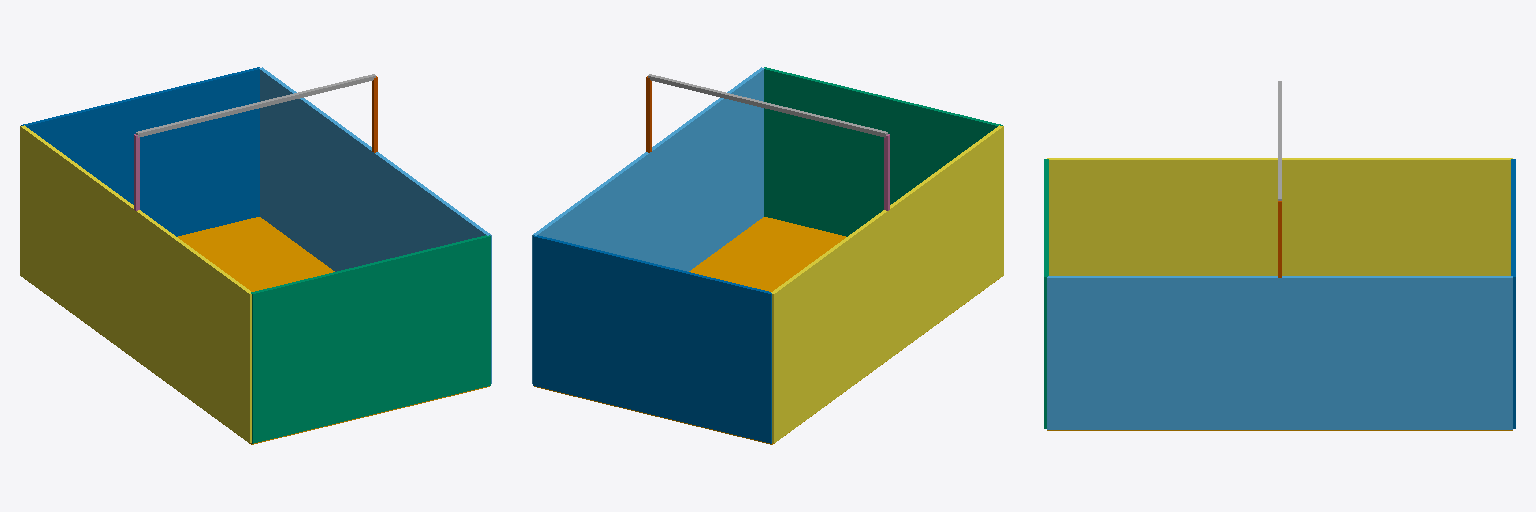
robot.urdf — basket:
<?xml version="1.0"?>
<robot name="basket">
    <link name="bottom_link">
        <collision>
            <geometry>
                <box size="0.30 0.50 0.005"/>
            </geometry>
        </collision>
        <visual>
            <geometry>
                <box size="0.30 0.50 0.005"/>
            </geometry>
        </visual>
    </link>

    <link name="left_side_link">
        <collision>
            <geometry>
                <box size="0.005 0.50 0.18"/>
            </geometry>
        </collision>
        <visual>
            <geometry>
                <box size="0.005 0.50 0.18"/>
            </geometry>
        </visual>
    </link>

    <joint name="bottom_to_left_joint" type="fixed">
        <origin xyz="0.15 0 0.09"/>
        <parent link="bottom_link"/>
        <child link="left_side_link"/>
    </joint>

    <link name="top_side_link">
        <collision>
            <geometry>
                <box size="0.3 0.005 0.18"/>
            </geometry>
        </collision>
        <visual>
            <geometry>
                <box size="0.3 0.005 0.18"/>
            </geometry>
        </visual>
    </link>

    <joint name="bottom_to_top_side_joint" type="fixed">
        <origin xyz="0 -0.25 0.09"/>
        <parent link="bottom_link"/>
        <child link="top_side_link"/>
    </joint>

    <link name="right_side_link">
        <collision>
            <geometry>
                <box size="0.005 0.50 0.18"/>
            </geometry>
        </collision>
        <visual>
            <geometry>
                <box size="0.005 0.50 0.18"/>
            </geometry>
        </visual>
    </link>

    <joint name="bottom_to_right_side_joint" type="fixed">
        <origin xyz="-0.15 0 0.09"/>
        <parent link="bottom_link"/>
        <child link="right_side_link"/>
    </joint>

    <link name="bottom_side_link">
        <collision>
            <geometry>
                <box size="0.3 0.005 0.18"/>
            </geometry>
        </collision>
        <visual>
            <geometry>
                <box size="0.3 0.005 0.18"/>
            </geometry>
        </visual>
    </link>

    <joint name="bottom_to_bottom_side_joint" type="fixed">
        <origin xyz="0 0.25 0.09"/>
        <parent link="bottom_link"/>
        <child link="bottom_side_link"/>
    </joint>

    <link name="handle_left_link">
        <collision>
            <geometry>
                <box size="0.005 0.005 0.09"/>
            </geometry>
        </collision>
        <visual>
            <geometry>
                <box size="0.005 0.005 0.09"/>
            </geometry>
        </visual>
    </link>

    <joint name="handle_left_to_bottom_joint" type="fixed">
        <origin xyz="0.15 0 0.225"/>
        <parent link="bottom_link"/>
        <child link="handle_left_link"/>
    </joint>

    <link name="handle_right_link">
        <collision>
            <geometry>
                <box size="0.005 0.005 0.09"/>
            </geometry>
        </collision>
        <visual>
            <geometry>
                <box size="0.005 0.005 0.09"/>
            </geometry>
        </visual>
    </link>

    <joint name="handle_right_to_bottom_joint" type="fixed">
        <origin xyz="-0.15 0 0.225"/>
        <parent link="bottom_link"/>
        <child link="handle_right_link"/>
    </joint>

    <link name="handle_middle_link">
        <collision>
            <geometry>
                <box size="0.3 0.005 0.005"/>
            </geometry>
        </collision>
        <visual>
            <geometry>
                <box size="0.3 0.005 0.005"/>
            </geometry>
        </visual>
    </link>

    <joint name="handle_middle_to_bottom_joint" type="fixed">
        <origin xyz="0 0 0.27"/>
        <parent link="bottom_link"/>
        <child link="handle_middle_link"/>
    </joint>

</robot>

--- Render facts (derived) ---
3 views of the same robot in one strip: view 1: azimuth 30°, elevation 25°; view 2: azimuth 150°, elevation 25°; view 3: azimuth 270°, elevation 25° (orthographic).
Robot: basket — 8 links, 7 joints (7 fixed); root link bottom_link; default pose: all joints at 0.
Visible links, largest first — view 1: top_side_link, right_side_link, left_side_link, bottom_side_link, bottom_link, handle_middle_link; view 2: bottom_side_link, right_side_link, left_side_link, top_side_link, bottom_link, handle_middle_link; view 3: left_side_link, right_side_link, top_side_link, bottom_side_link.
Boxes of the visible links, x1=… form: top_side_link: x1=251, y1=235, x2=490, y2=443; right_side_link: x1=20, y1=125, x2=251, y2=442; left_side_link: x1=259, y1=67, x2=491, y2=383; bottom_side_link: x1=21, y1=67, x2=259, y2=236; bottom_link: x1=25, y1=217, x2=489, y2=444; handle_middle_link: x1=136, y1=74, x2=375, y2=137; bottom_side_link: x1=533, y1=235, x2=771, y2=443; right_side_link: x1=771, y1=125, x2=1003, y2=442; left_side_link: x1=532, y1=67, x2=764, y2=383; top_side_link: x1=764, y1=67, x2=1002, y2=236; bottom_link: x1=534, y1=217, x2=998, y2=444; handle_middle_link: x1=648, y1=74, x2=887, y2=137; left_side_link: x1=1047, y1=276, x2=1512, y2=429; right_side_link: x1=1047, y1=158, x2=1512, y2=275; top_side_link: x1=1044, y1=159, x2=1048, y2=428; bottom_side_link: x1=1511, y1=159, x2=1515, y2=428.
Bounding box of the posed robot: 0.305 × 0.505 × 0.275 m (x, y, z).
Geometry: primitives only (box / cylinder / sphere), no mesh files.